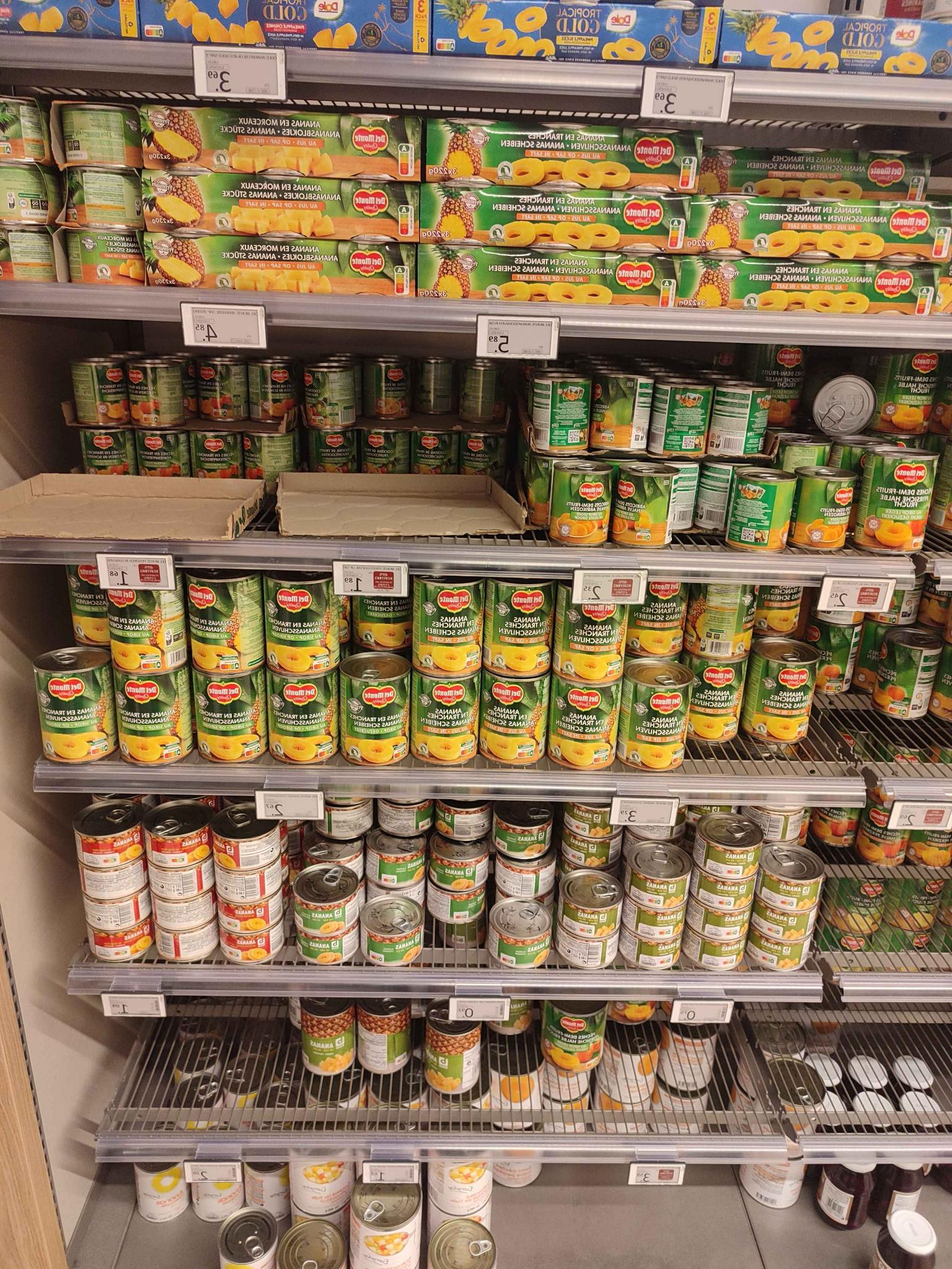nutri_A: (396, 204, 413, 238), (668, 218, 685, 248), (398, 144, 414, 175), (905, 178, 925, 202), (917, 285, 932, 316), (393, 265, 409, 294), (934, 226, 948, 259), (681, 157, 694, 190), (662, 277, 674, 310), (139, 652, 161, 668), (90, 737, 108, 755), (435, 38, 456, 52), (721, 50, 743, 63), (219, 658, 239, 670), (145, 24, 163, 37), (600, 433, 616, 442), (637, 531, 650, 540)
shelf_bottom: (0, 813, 951, 1267)
shelf_middle: (9, 353, 950, 796)
shelf_top: (0, 7, 950, 334)
